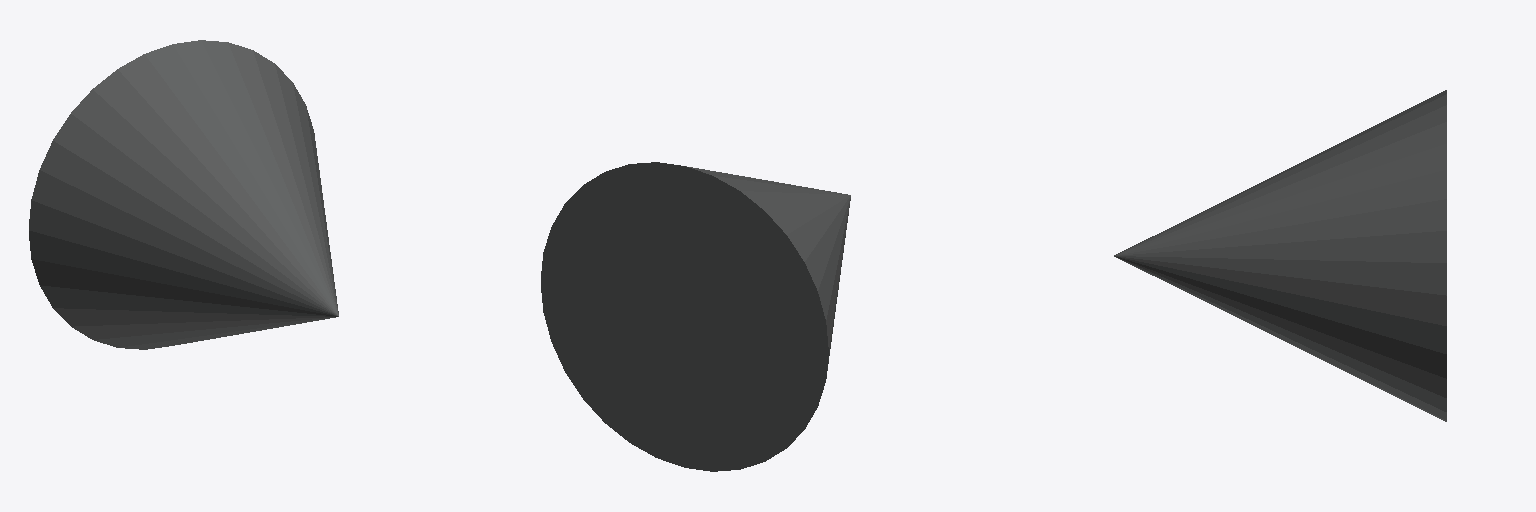
Rendered from ascent.obj.
3 renders of one model, left to right at view 1: azimuth 30°, elevation 25°; view 2: azimuth 150°, elevation 25°; view 3: azimuth 270°, elevation 25°, orthographic.
Bounding box in the file's own units: 2 × 2 × 2.